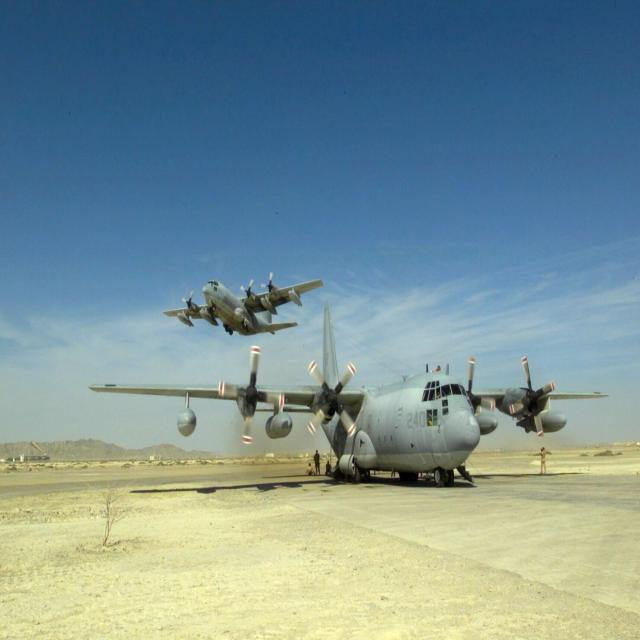MIL_Plane: (88, 0, 609, 168), (162, 272, 324, 337)
